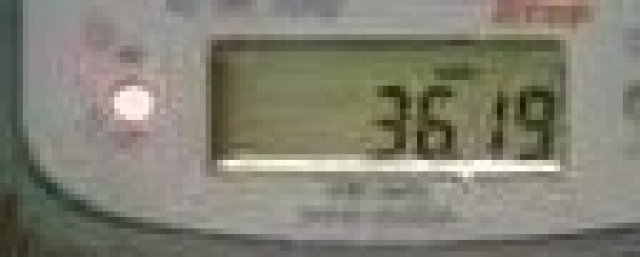box: (212, 43, 563, 167)
